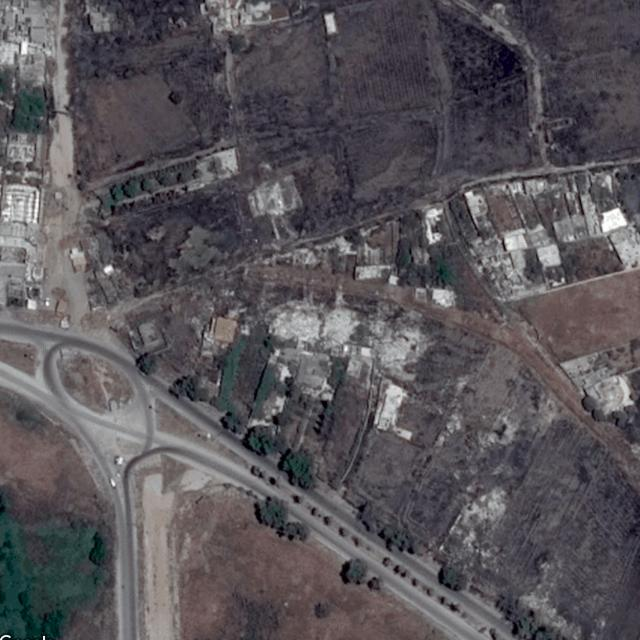damaged_building: (255, 288, 440, 386)
